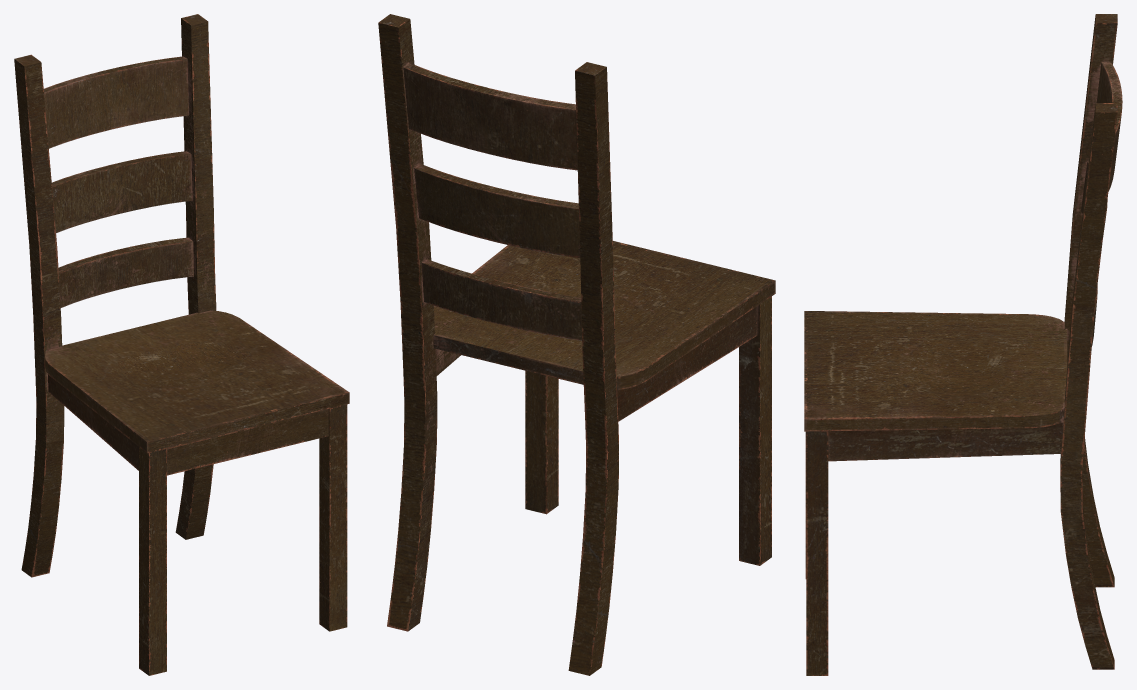
File: chair.glb
3 renders of one model, left to right at view 1: azimuth 30°, elevation 25°; view 2: azimuth 150°, elevation 25°; view 3: azimuth 270°, elevation 25°, orthographic. The views are drawn at different scales.
Parts seen in each view (by area): view 1: Chair_LP; view 2: Chair_LP; view 3: Chair_LP.
Part boxes in pixels (bbox=[...]): Chair_LP: bbox=[14, 14, 349, 675]; Chair_LP: bbox=[378, 14, 775, 675]; Chair_LP: bbox=[804, 14, 1122, 675].
Bounding box in the file's own units: 2 × 4.82 × 2.48.
1 material, 1 textured.
